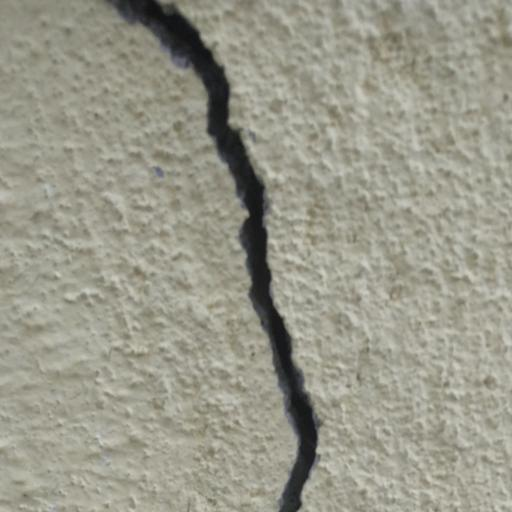major_crack: (99, 0, 326, 512)
